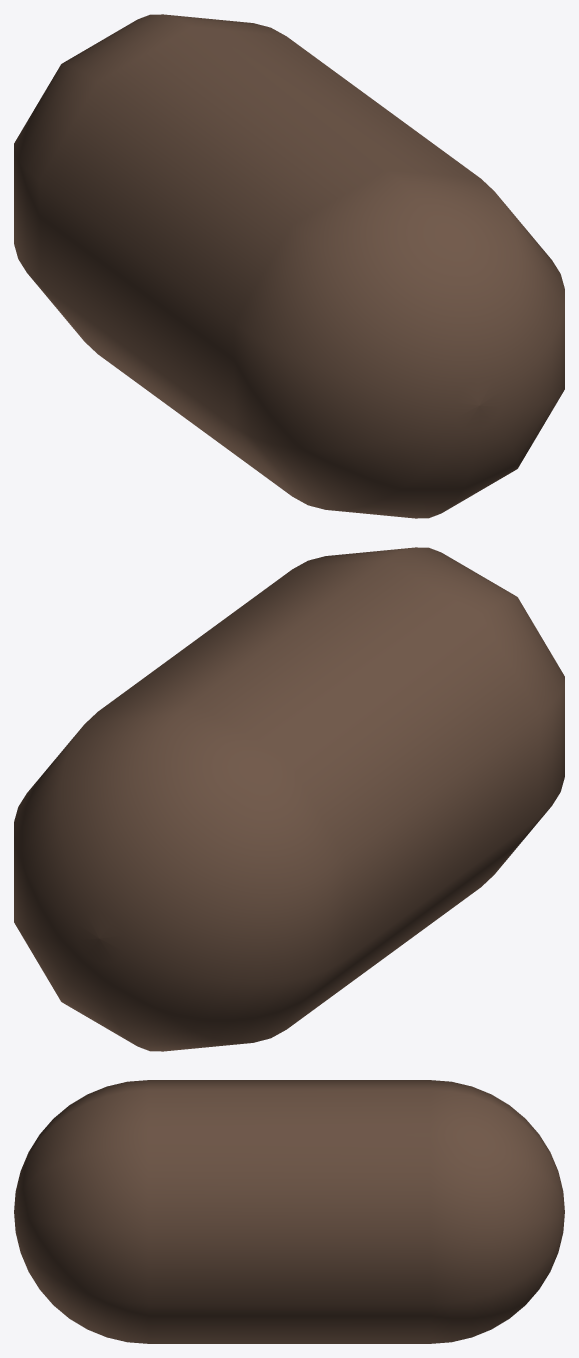
File: performer.glb
The picture shows the model from 3 angles, top to bottom: view 1: azimuth 30°, elevation 25°; view 2: azimuth 150°, elevation 25°; view 3: azimuth 270°, elevation 25°; orthographic projection. The views are drawn at different scales.
Parts seen in each view (by area): view 1: Body; view 2: Body; view 3: Body.
Boxes of the visible parts, box(x1,y1,x2,y2) form: Body: box(14, 14, 564, 518); Body: box(14, 547, 564, 1051); Body: box(14, 1080, 564, 1343).
Size of the model in its own units: 0.3804 by 0.4 by 0.82.
